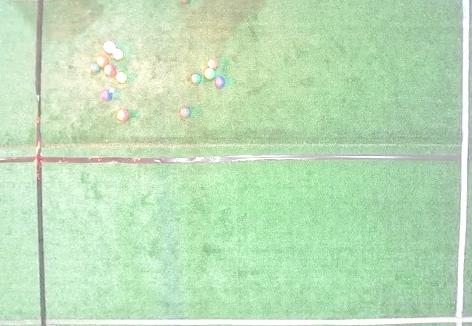blue: (101, 90, 112, 101), (215, 76, 225, 87)
green: (204, 68, 215, 80), (179, 107, 191, 118), (191, 74, 202, 84), (90, 63, 100, 73), (179, 1, 191, 4)
red: (103, 41, 116, 53), (104, 64, 116, 77), (117, 109, 129, 122), (96, 56, 109, 67), (207, 58, 218, 69)
vline: (1, 1, 47, 325), (454, 1, 471, 325)
white: (110, 88, 114, 93)
yellow: (112, 48, 124, 60), (116, 72, 127, 83)
